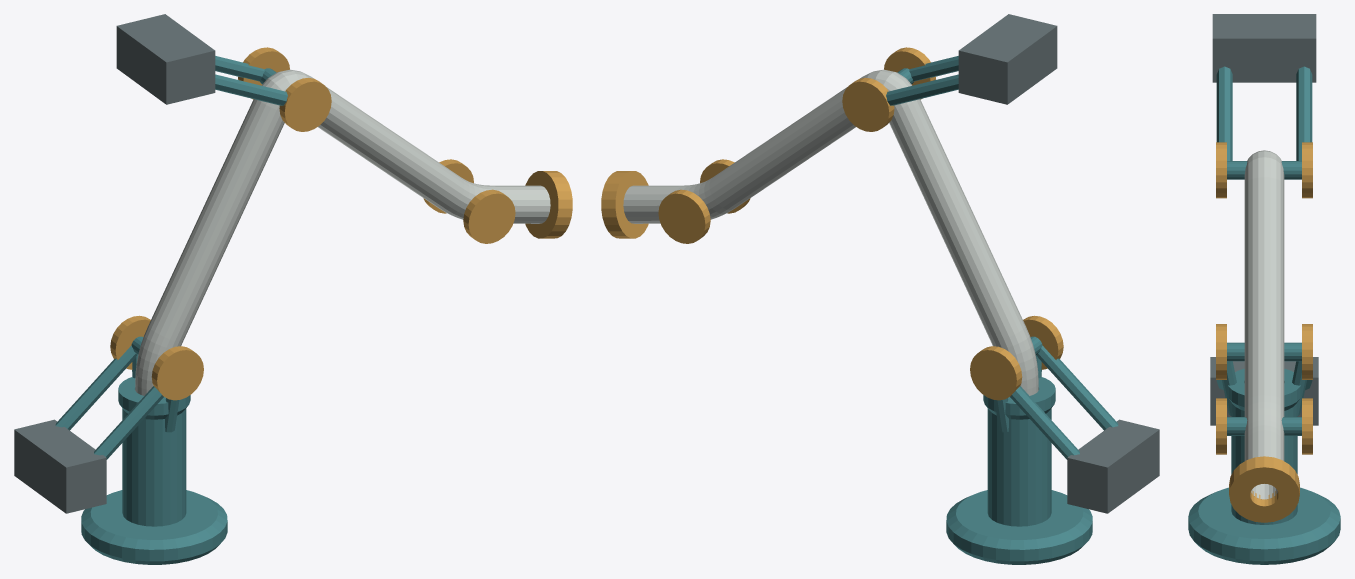
The picture shows the model from 3 angles, left to right: view 1: azimuth 30°, elevation 25°; view 2: azimuth 150°, elevation 25°; view 3: azimuth 270°, elevation 25°; orthographic projection. The views are drawn at different scales.
Parts seen in each view (by area): view 1: WholeContinuousRiserAndReturningPipe, WholeAnnularPedestalSleeve, WholeAnnularGroundFoot, WholeUpperRearCounterweight, WholeLowerRearCounterweight, WholeFullPivotCap2Near, WholeFullPivotCap0Near, WholeFullPivotCap1Near, WholeOpenObliqueOutletFlange, WholeLowerRearCounterarmFar, WholeLowerRearCounterarmNear, WholeUpperRearCounterarmNear (+3 smaller); view 2: WholeContinuousRiserAndReturningPipe, WholeAnnularPedestalSleeve, WholeAnnularGroundFoot, WholeUpperRearCounterweight, WholeLowerRearCounterweight, WholeFullPivotCap2Far, WholeFullPivotCap0Far, WholeFullPivotCap1Far, WholeOpenObliqueOutletFlange, WholeLowerRearCounterarmNear, WholeLowerRearCounterarmFar, WholeUpperRearCounterarmFar (+3 smaller); view 3: WholeContinuousRiserAndReturningPipe, WholeAnnularGroundFoot, WholeUpperRearCounterweight, WholeOpenObliqueOutletFlange, WholeAnnularPedestalSleeve, WholeUpperRearCounterarmNear, WholeUpperRearCounterarmFar, WholeLowerRearCounterweight, WholeFullPivotCap1Near, WholeFullPivotCap1Far, WholeFullPivotCap2Near, WholeFullPivotCap2Far (+10 smaller).
Boxes of the visible parts, x1=… form: WholeContinuousRiserAndReturningPipe: x1=135, y1=69, x2=550, y2=395; WholeAnnularPedestalSleeve: x1=118, y1=377, x2=190, y2=526; WholeAnnularGroundFoot: x1=81, y1=490, x2=227, y2=564; WholeUpperRearCounterweight: x1=116, y1=14, x2=215, y2=104; WholeLowerRearCounterweight: x1=14, y1=419, x2=106, y2=513; WholeFullPivotCap2Near: x1=463, y1=189, x2=515, y2=243; WholeFullPivotCap0Near: x1=151, y1=346, x2=203, y2=400; WholeFullPivotCap1Near: x1=279, y1=77, x2=331, y2=131; WholeOpenObliqueOutletFlange: x1=525, y1=171, x2=572, y2=238; WholeLowerRearCounterarmFar: x1=55, y1=345, x2=136, y2=430; WholeLowerRearCounterarmNear: x1=94, y1=386, x2=163, y2=459; WholeUpperRearCounterarmNear: x1=215, y1=74, x2=287, y2=105; WholeContinuousRiserAndReturningPipe: x1=623, y1=69, x2=1038, y2=395; WholeAnnularPedestalSleeve: x1=983, y1=377, x2=1055, y2=526; WholeAnnularGroundFoot: x1=946, y1=490, x2=1092, y2=564; WholeUpperRearCounterweight: x1=958, y1=14, x2=1057, y2=104; WholeLowerRearCounterweight: x1=1067, y1=419, x2=1159, y2=513; WholeFullPivotCap2Far: x1=658, y1=189, x2=710, y2=243; WholeFullPivotCap0Far: x1=970, y1=346, x2=1022, y2=400; WholeFullPivotCap1Far: x1=842, y1=77, x2=894, y2=131; WholeOpenObliqueOutletFlange: x1=601, y1=171, x2=648, y2=238; WholeLowerRearCounterarmNear: x1=1037, y1=345, x2=1118, y2=430; WholeLowerRearCounterarmFar: x1=1010, y1=386, x2=1079, y2=459; WholeUpperRearCounterarmFar: x1=886, y1=74, x2=958, y2=105; WholeContinuousRiserAndReturningPipe: x1=1244, y1=150, x2=1284, y2=499; WholeAnnularGroundFoot: x1=1188, y1=487, x2=1340, y2=564; WholeUpperRearCounterweight: x1=1212, y1=14, x2=1316, y2=82; WholeOpenObliqueOutletFlange: x1=1229, y1=456, x2=1299, y2=522; WholeAnnularPedestalSleeve: x1=1227, y1=368, x2=1301, y2=524; WholeUpperRearCounterarmNear: x1=1216, y1=66, x2=1232, y2=161; WholeUpperRearCounterarmFar: x1=1296, y1=66, x2=1312, y2=161; WholeLowerRearCounterweight: x1=1210, y1=357, x2=1318, y2=425; WholeFullPivotCap1Near: x1=1216, y1=142, x2=1226, y2=198; WholeFullPivotCap1Far: x1=1302, y1=142, x2=1312, y2=198; WholeFullPivotCap2Near: x1=1216, y1=398, x2=1226, y2=454; WholeFullPivotCap2Far: x1=1302, y1=398, x2=1312, y2=454.
Bounding box in the file's own units: 5.66 × 5.14 × 1.38.
